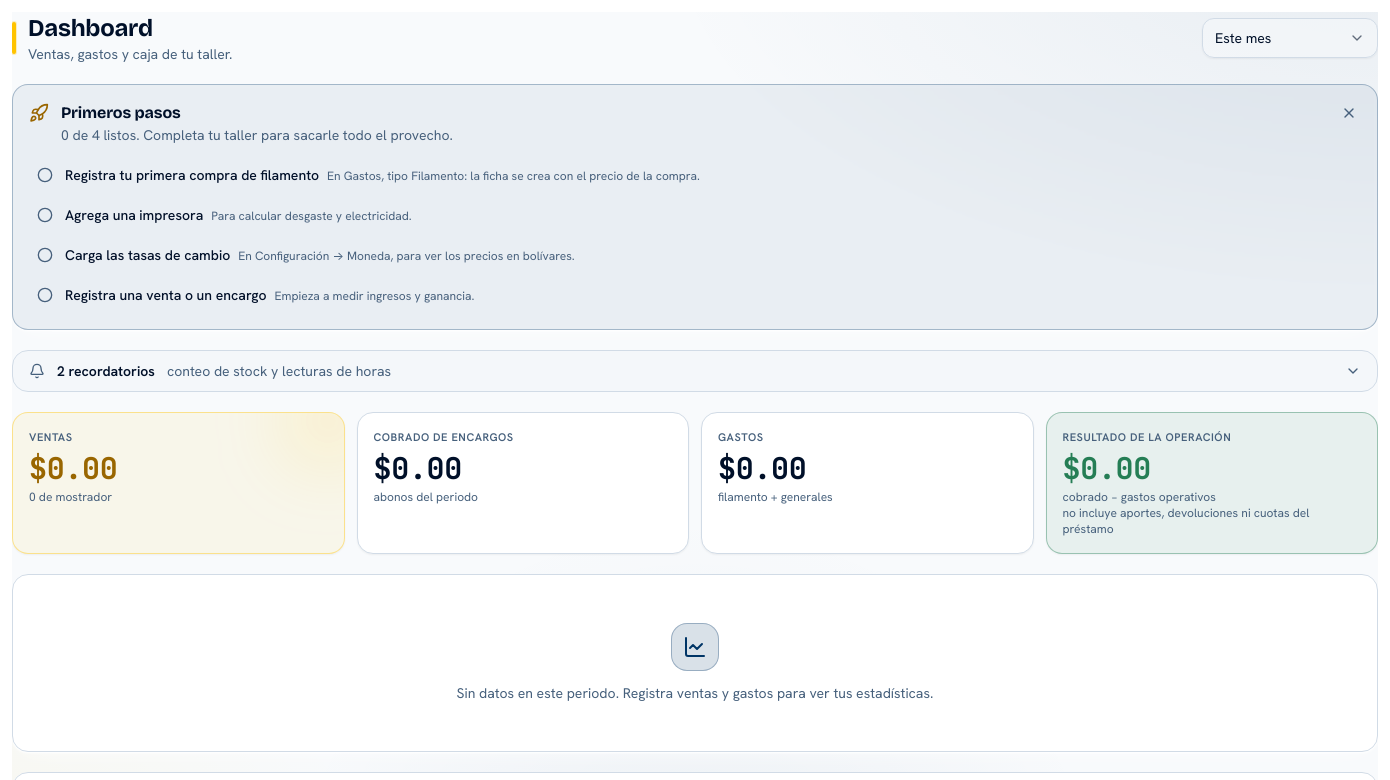
Test: Los dos recordatorios se colapsan en un renglón › desplegado, callar el SEGUNDO no calla el primero
Expected: the text "Sin datos en este periodo" is shown, x1=457 y1=684 x2=933 y2=702
Click the button "2 recordatorios conteo de stock y lecturas de horas": click(110, 371) x1=12 y1=350 x2=1378 y2=392
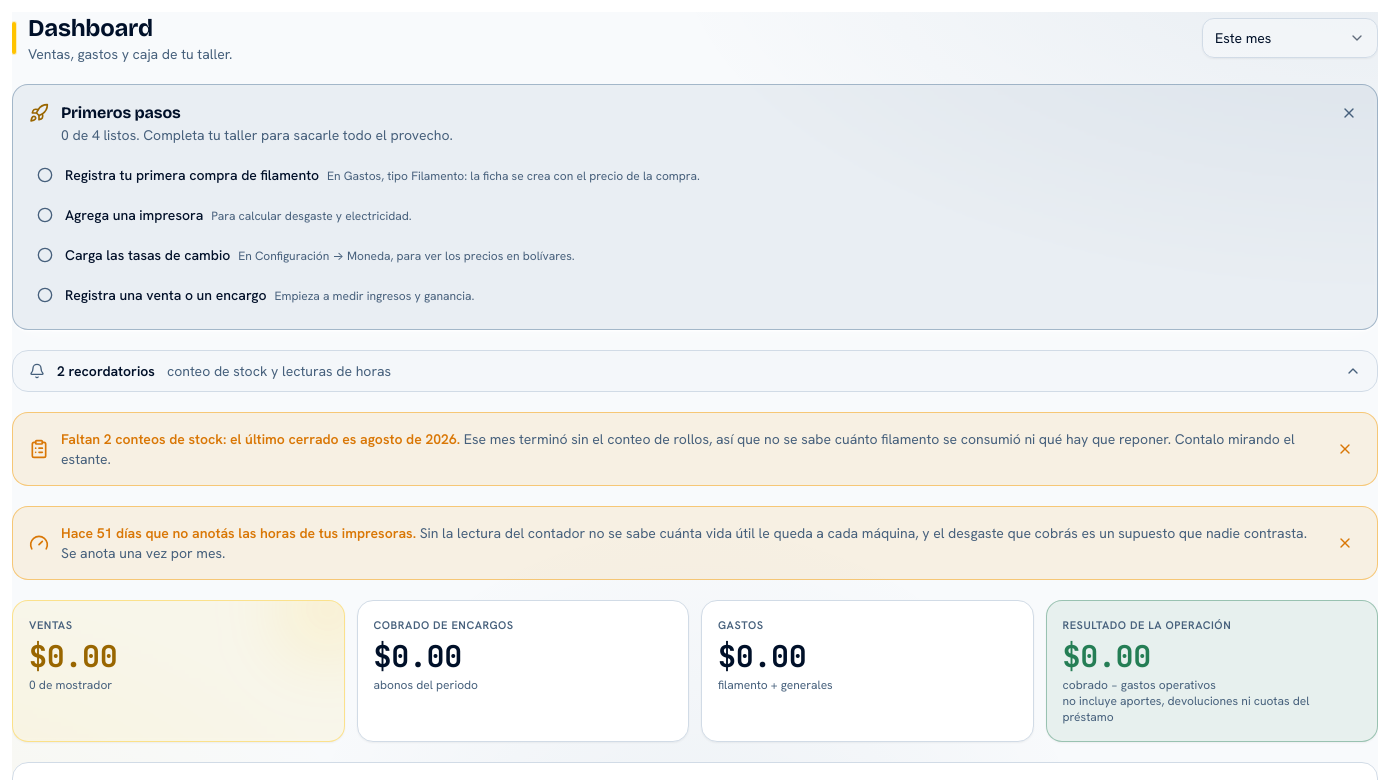
Click the button named "Descartar el aviso de las lecturas de horas": click(1345, 543) x1=1329 y1=527 x2=1361 y2=559
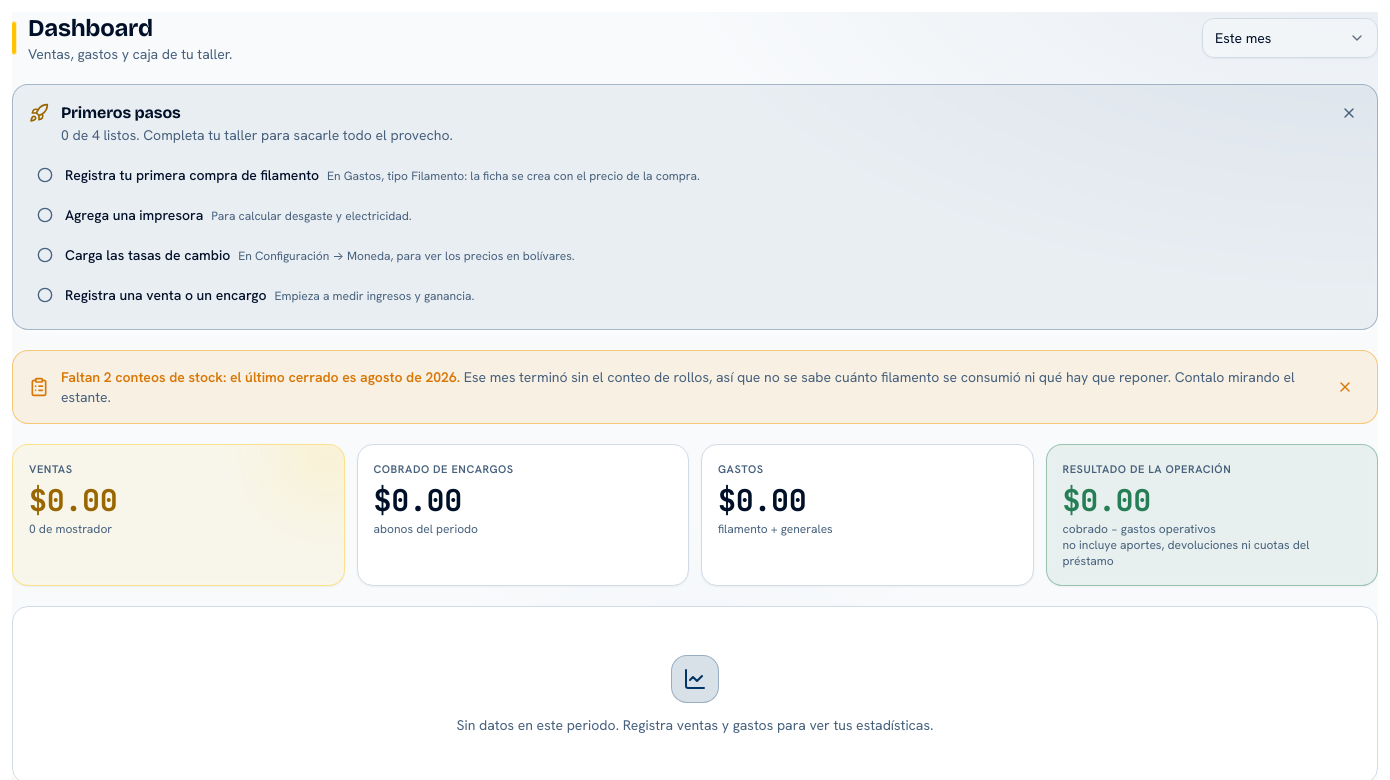
Expected: the text "conteo de rollos" is shown, x1=61 y1=368 x2=1295 y2=406
Expected: the link "anotás las horas" is gone
